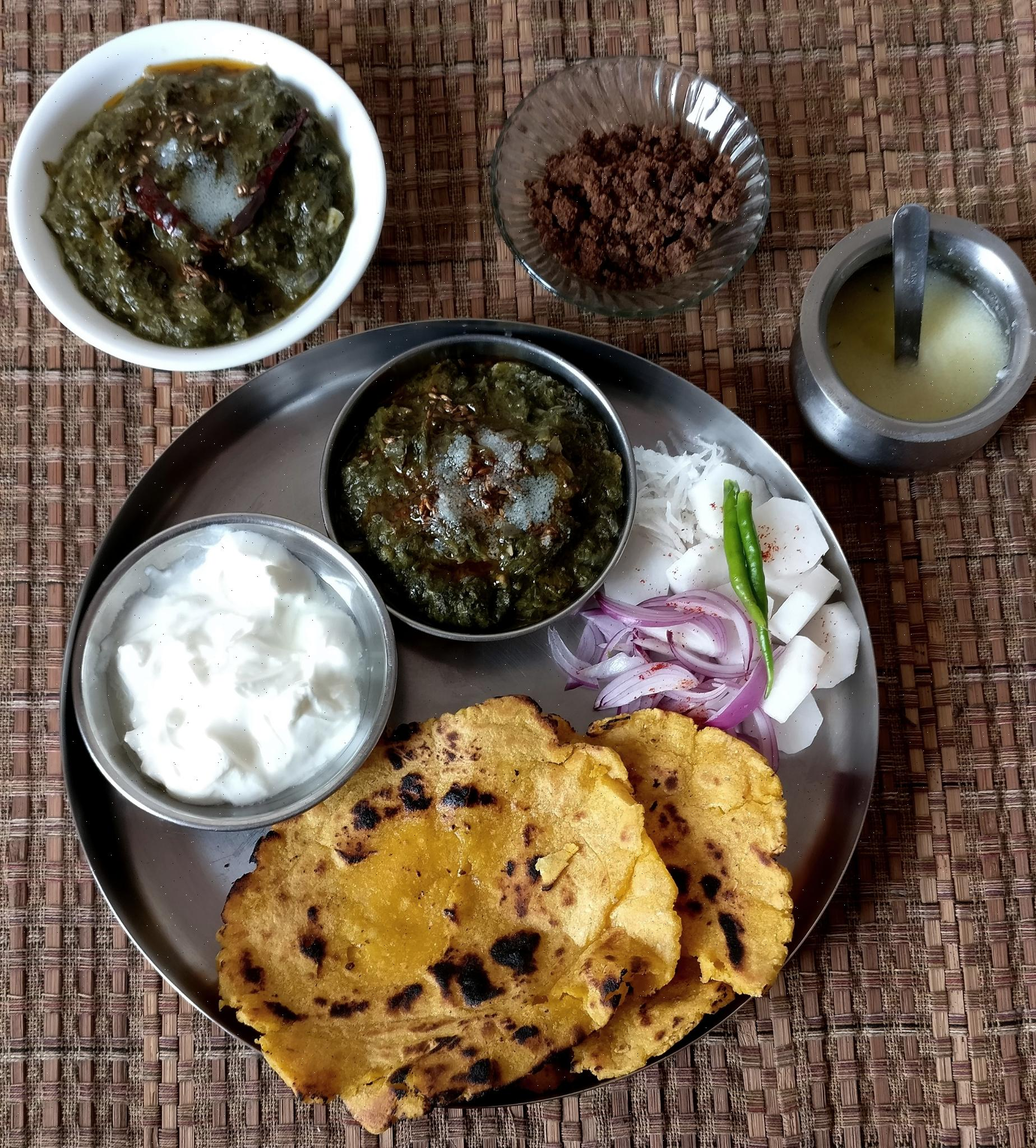saag: (52, 56, 353, 348)
